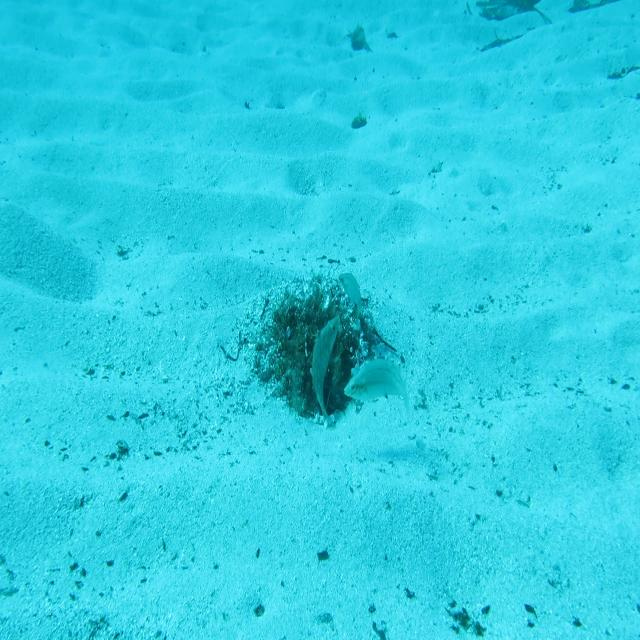BEND: (306, 305, 345, 432)
female: (343, 352, 414, 419)
nest: (247, 263, 396, 434)
other_fish: (337, 266, 366, 323)
